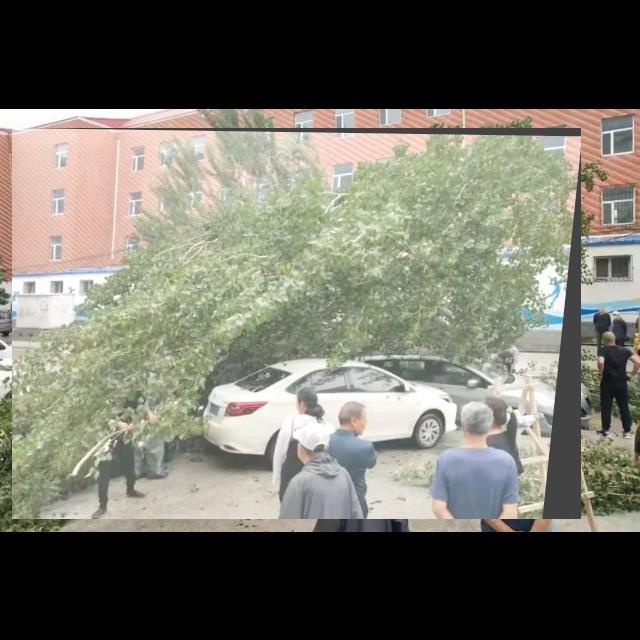fallen_tree: (12, 128, 582, 520)
